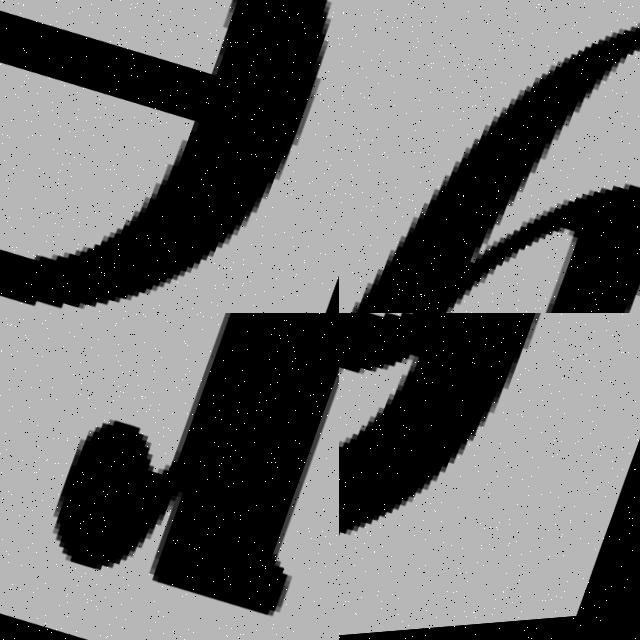6: (339, 313, 628, 640)
E: (0, 0, 326, 309)
R: (24, 313, 339, 640)
Y: (339, 0, 640, 313)
